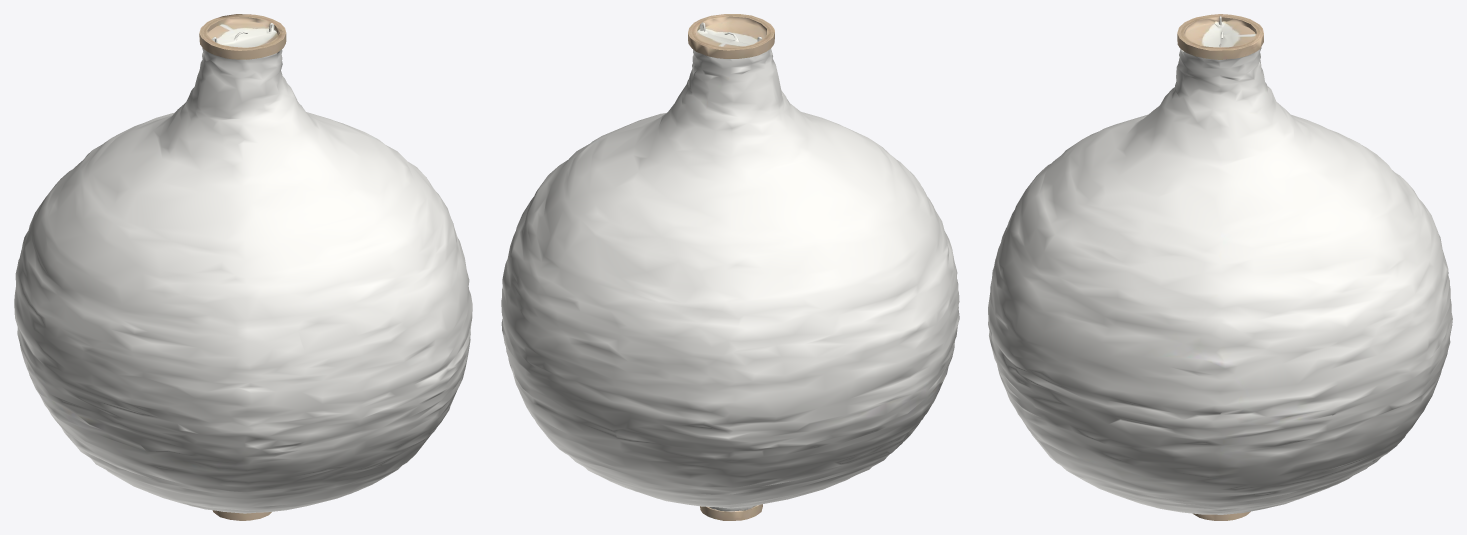
The model's file is 08 - RISBYN - 吊燈罩, 洋蔥白色, 57 公分 IKEA 線上購物.glb.
3 renders of one model, left to right at view 1: azimuth 30°, elevation 25°; view 2: azimuth 150°, elevation 25°; view 3: azimuth 270°, elevation 25°, orthographic.
Parts seen in each view (by area): view 1: ProcessedMeshNode; view 2: ProcessedMeshNode; view 3: ProcessedMeshNode.
Boxes of the visible parts, x1,y1,x2,y2 form: ProcessedMeshNode: (14, 14, 472, 520); ProcessedMeshNode: (501, 14, 959, 520); ProcessedMeshNode: (988, 14, 1452, 520).
Bounding box in the file's own units: 0.567 × 0.6437 × 0.567.
Materials: 1 (1 with a texture image).
